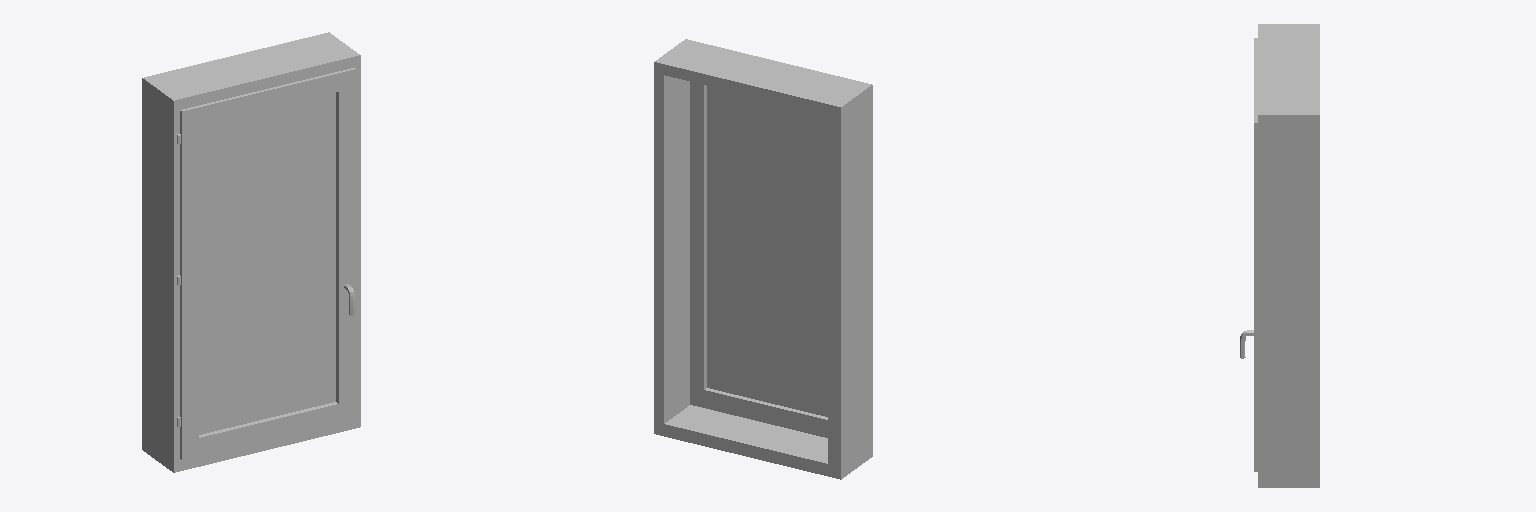
File: window3.obj
3 renders of one model, left to right at view 1: azimuth 30°, elevation 25°; view 2: azimuth 150°, elevation 25°; view 3: azimuth 270°, elevation 25°, orthographic.
Parts seen in each view (by area): view 1: Tour_Fenetre_7, Fenetre_2; view 2: Tour_Fenetre_7, Fenetre_2; view 3: Tour_Fenetre_7, Fenetre_2.
Boxes of the visible parts, <box> form: Tour_Fenetre_7: <box>142,32,360,472</box>; Fenetre_2: <box>180,68,355,459</box>; Tour_Fenetre_7: <box>654,39,872,479</box>; Fenetre_2: <box>690,82,827,437</box>; Tour_Fenetre_7: <box>1258,24,1319,487</box>; Fenetre_2: <box>1254,38,1257,471</box>.
Bounding box in the file's own units: 91.4 × 174 × 34.3.